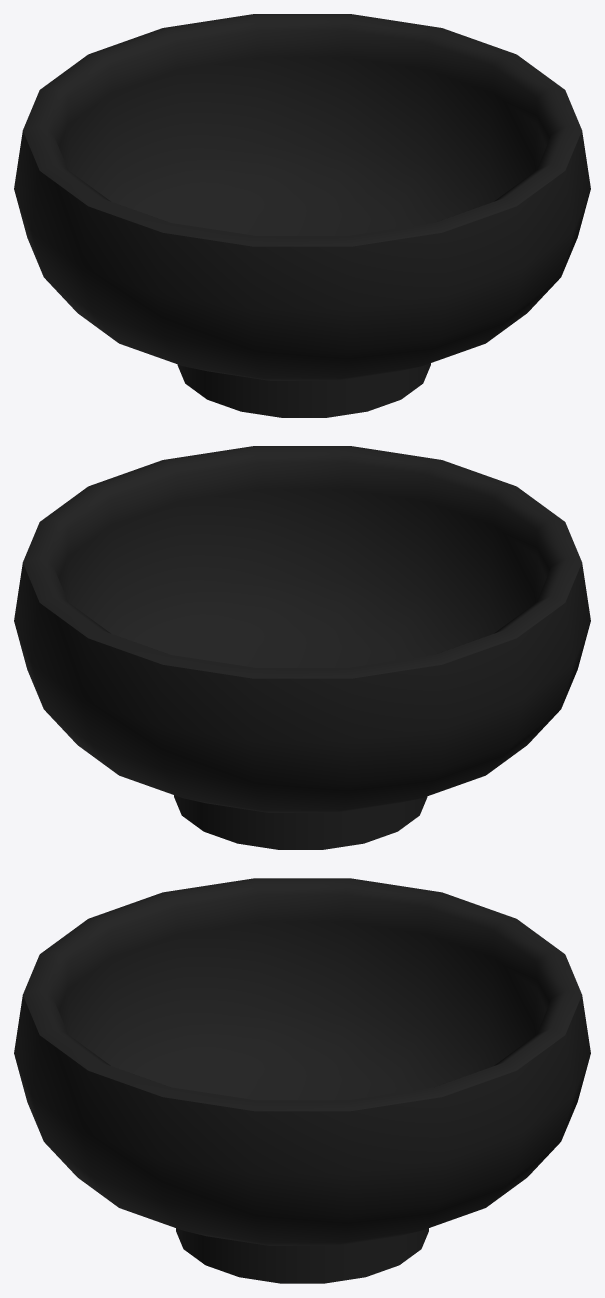
Rendered from Environment_Bowl.fbx.
3 views of the same model, one above another, from view 1: azimuth 30°, elevation 25°; view 2: azimuth 150°, elevation 25°; view 3: azimuth 270°, elevation 25° (orthographic).
Parts seen in each view (by area): view 1: Environment_Bowl; view 2: Environment_Bowl; view 3: Environment_Bowl.
Boxes of the visible parts, left/top/right/bottom form: Environment_Bowl: left=14, top=14, right=590, bottom=417; Environment_Bowl: left=14, top=446, right=590, bottom=849; Environment_Bowl: left=14, top=878, right=590, bottom=1283.
Bounding box in the file's own units: 98.45 × 45.82 × 99.97.
